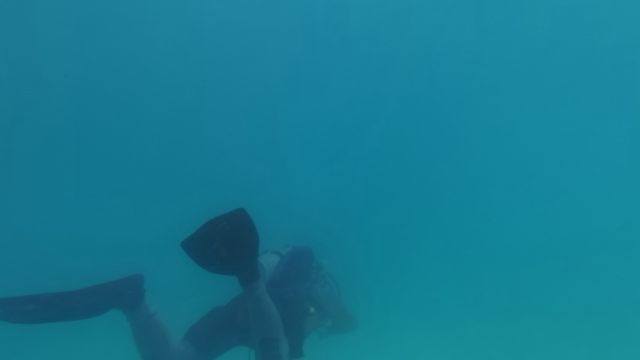Diver: (3, 203, 361, 358)
